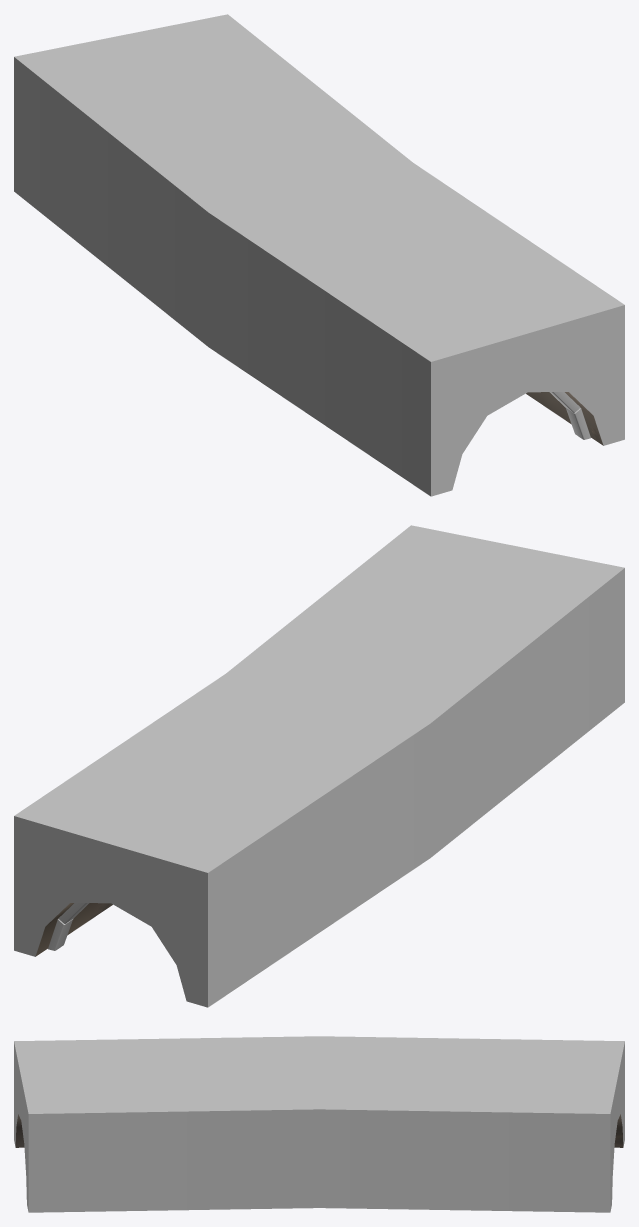
Rendered from STAI_T1_Floor1.fbx.
3 renders of one model, top to bottom at view 1: azimuth 30°, elevation 25°; view 2: azimuth 150°, elevation 25°; view 3: azimuth 270°, elevation 25°, orthographic. The views are drawn at different scales.
Visible parts, largest first — view 1: STAI_T1_Floor1; view 2: STAI_T1_Floor1; view 3: STAI_T1_Floor1.
Boxes of the visible parts, left/top/right/bottom form: STAI_T1_Floor1: left=14, top=14, right=624, bottom=496; STAI_T1_Floor1: left=14, top=525, right=624, bottom=1007; STAI_T1_Floor1: left=14, top=1036, right=624, bottom=1212.
Bounding box in the file's own units: 2.74 × 1.62 × 9.08.
